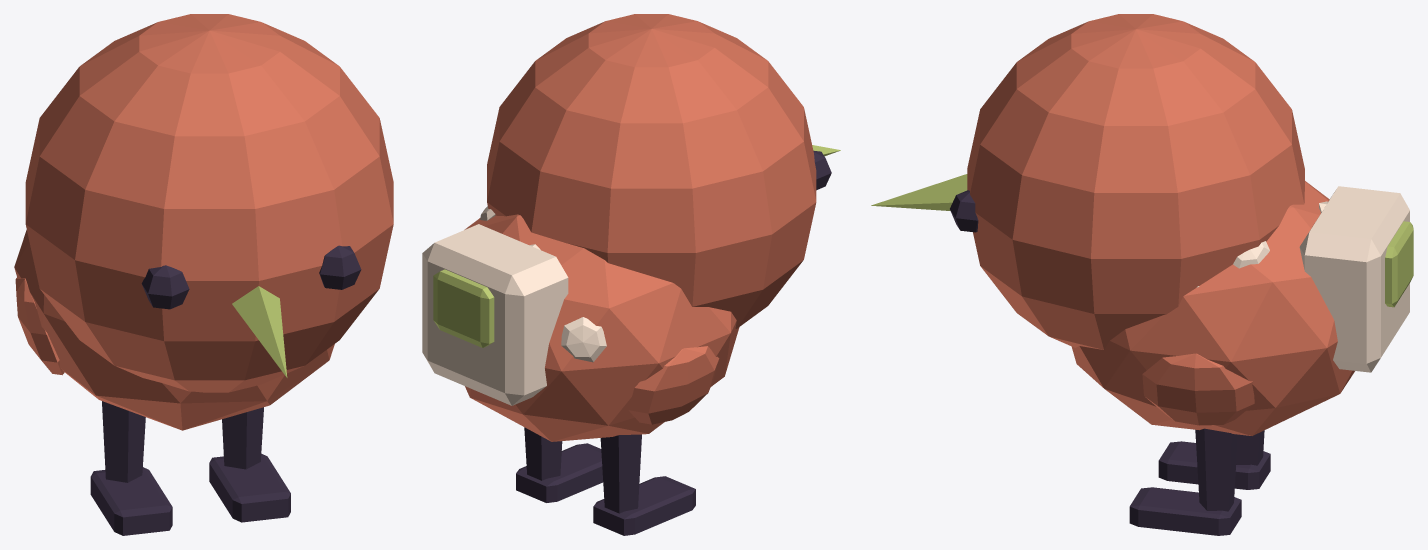
The model's file is bird-medieval-2.glb.
3 renders of one model, left to right at view 1: azimuth 30°, elevation 25°; view 2: azimuth 150°, elevation 25°; view 3: azimuth 270°, elevation 25°, orthographic. The views are drawn at different scales.
Visible parts, largest first — view 1: bird-medieval-2; view 2: bird-medieval-2; view 3: bird-medieval-2.
Part boxes in pixels (box(x1,y1,x2,y2)): bird-medieval-2: box(14, 14, 393, 535); bird-medieval-2: box(422, 14, 840, 535); bird-medieval-2: box(871, 14, 1413, 535).
Bounding box in the file's own units: 0.5347 × 0.7846 × 0.8351.
